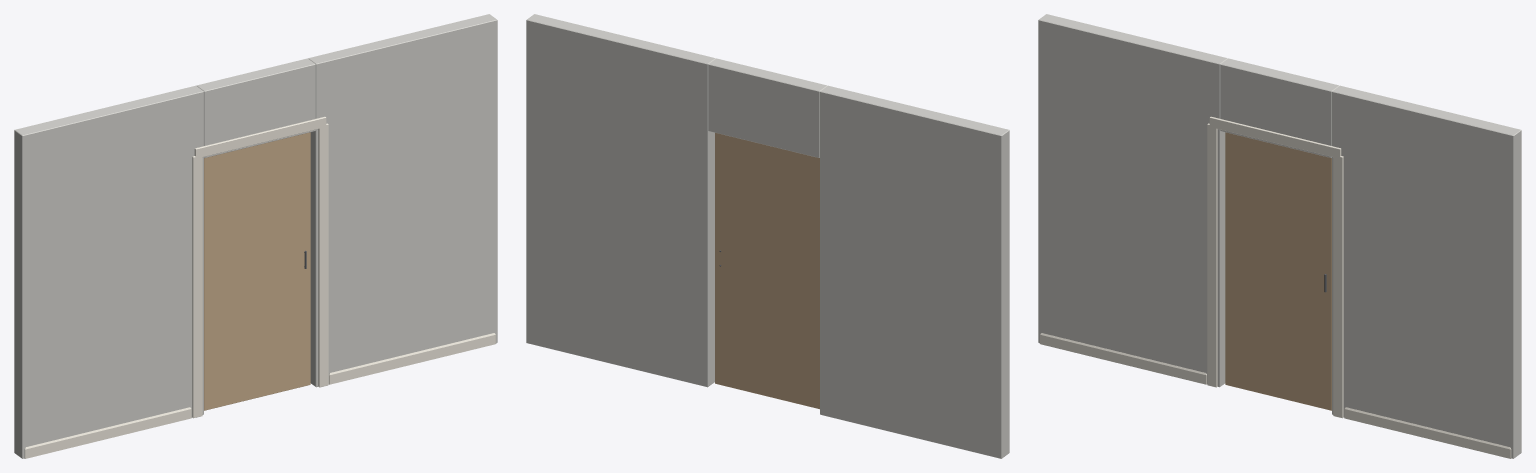
The model's file is bedroom-and-living-room-furniture-flat-wall-door-4m-5507534b.glb.
The picture shows the model from 3 angles, left to right: view 1: azimuth 30°, elevation 25°; view 2: azimuth 150°, elevation 25°; view 3: azimuth 330°, elevation 25°; orthographic projection.
Parts seen in each view (by area): view 1: flat-wall-door-4m, door-leaf/oak; view 2: flat-wall-door-4m, door-leaf/oak; view 3: flat-wall-door-4m, door-leaf/oak.
Part boxes in pixels (<box>): flat-wall-door-4m: <box>14,14,497,458</box>; door-leaf/oak: <box>204,132,310,410</box>; flat-wall-door-4m: <box>526,14,1009,458</box>; door-leaf/oak: <box>715,133,819,409</box>; flat-wall-door-4m: <box>1038,14,1521,458</box>; door-leaf/oak: <box>1225,132,1331,410</box>.
Size of the model in its own units: 4 by 2.6 by 0.1352.
